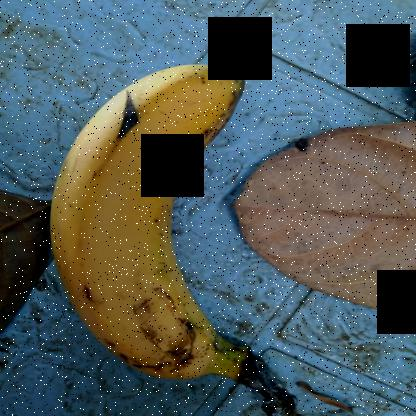ripe: (26, 59, 273, 392)
